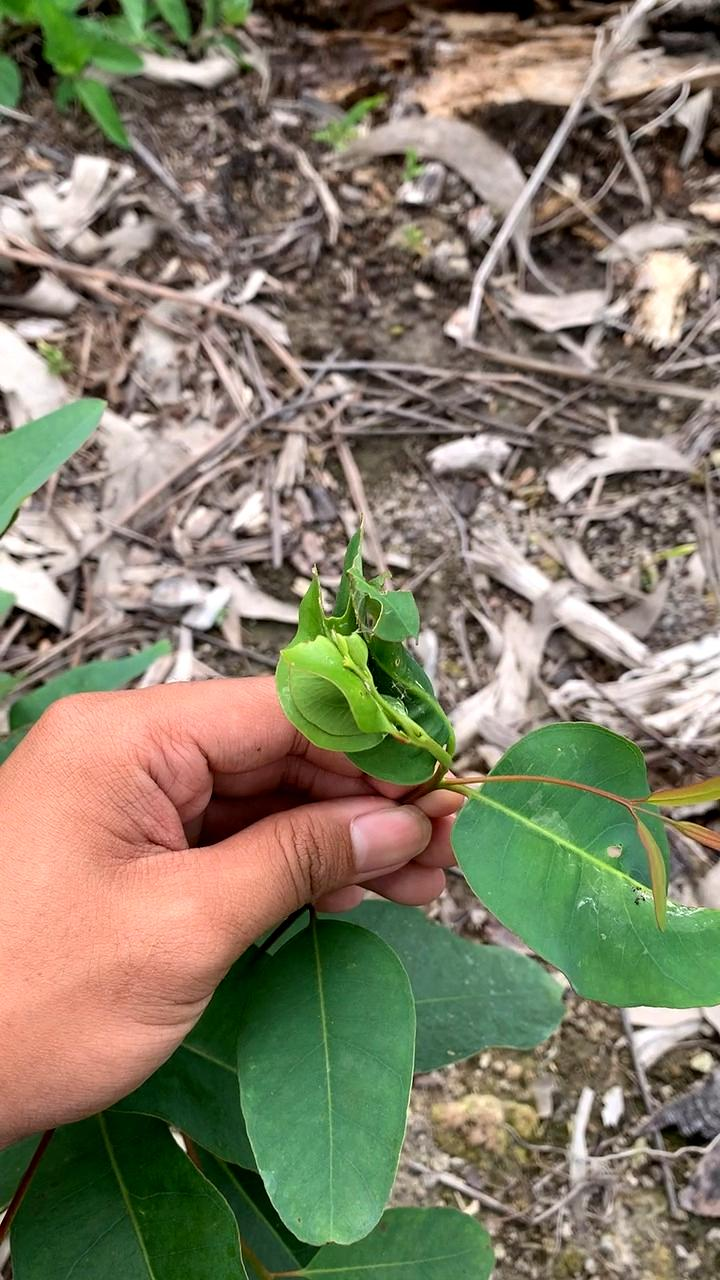Leaf Roller - Leaf: (276, 568, 457, 779)
